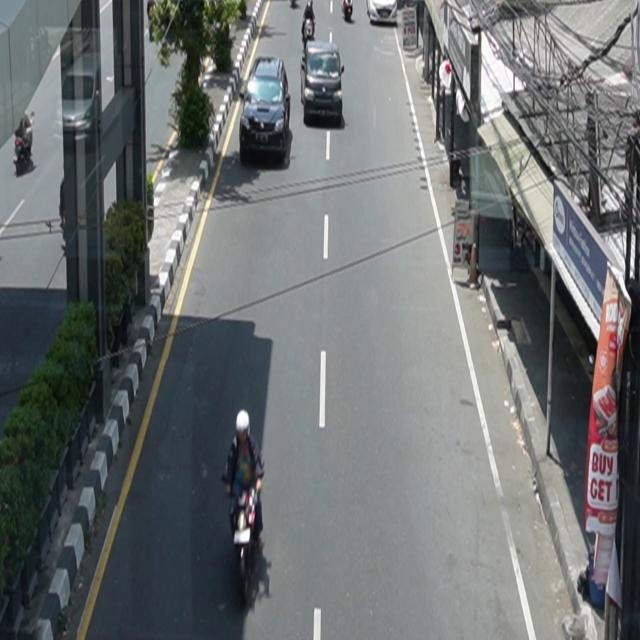car: (240, 56, 292, 165), (301, 40, 346, 126), (366, 1, 398, 25)
